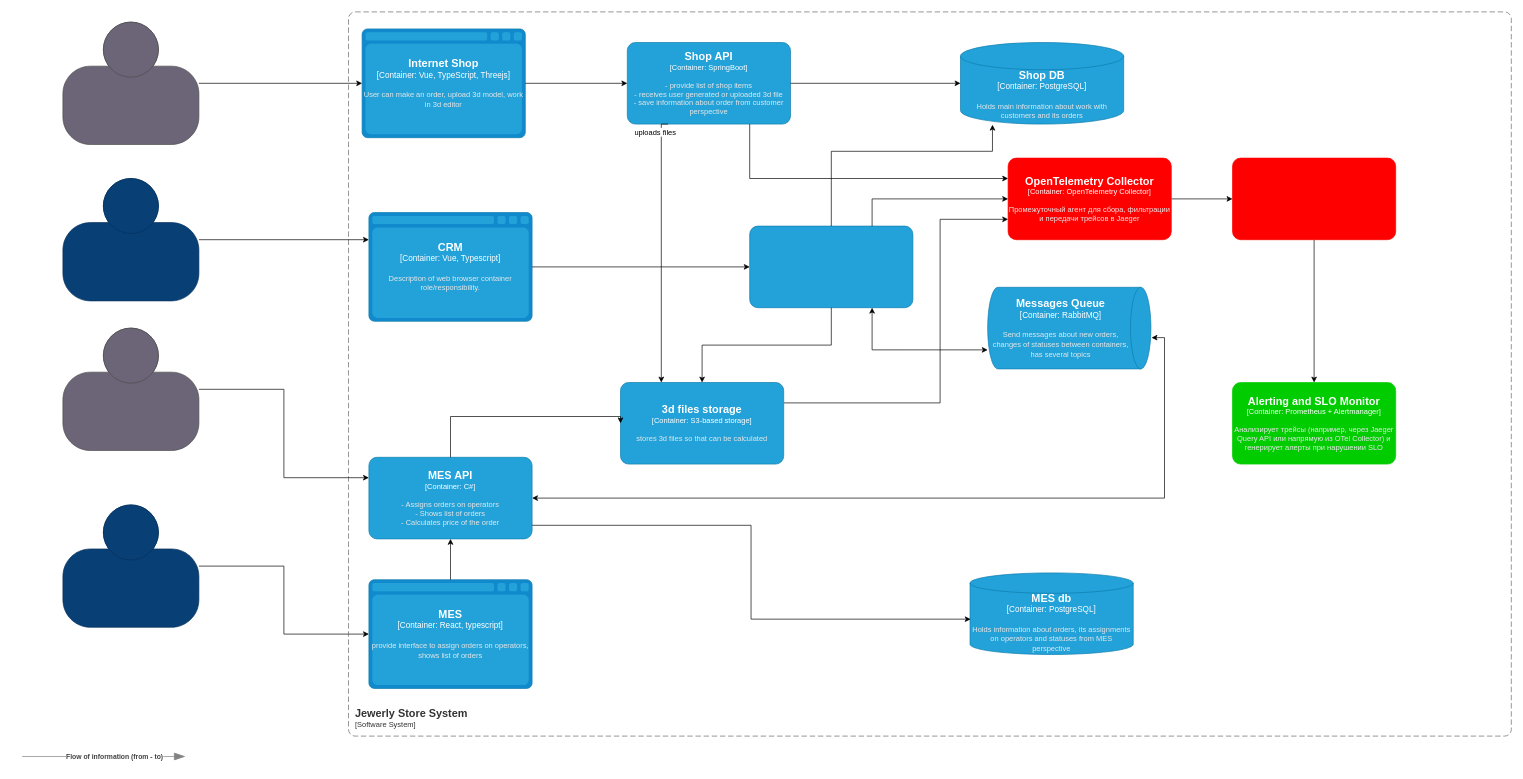
Some shapes in this 1523 by 779 pixel diagram are drawn without their labels. The centre of each missing label's shape, as x and y in pixels:
"API user [Person] Description of external person." belongs at (130,389).
"CRM API [Container: SpringBoot] Description of container role/responsibility." belongs at (831,266).
"Customer [Person] Description of external person." belongs at (130,82).
"Jaeger [Container: Jaeger] Хранилище и UI для распределённых трейсов" belongs at (1314,198).
"Operator [Person] Takes order in work, manufactures jewerly" belongs at (130,565).
"Seller [Person] Operates with order, confirms manufacturing for the user" belongs at (130,239).
